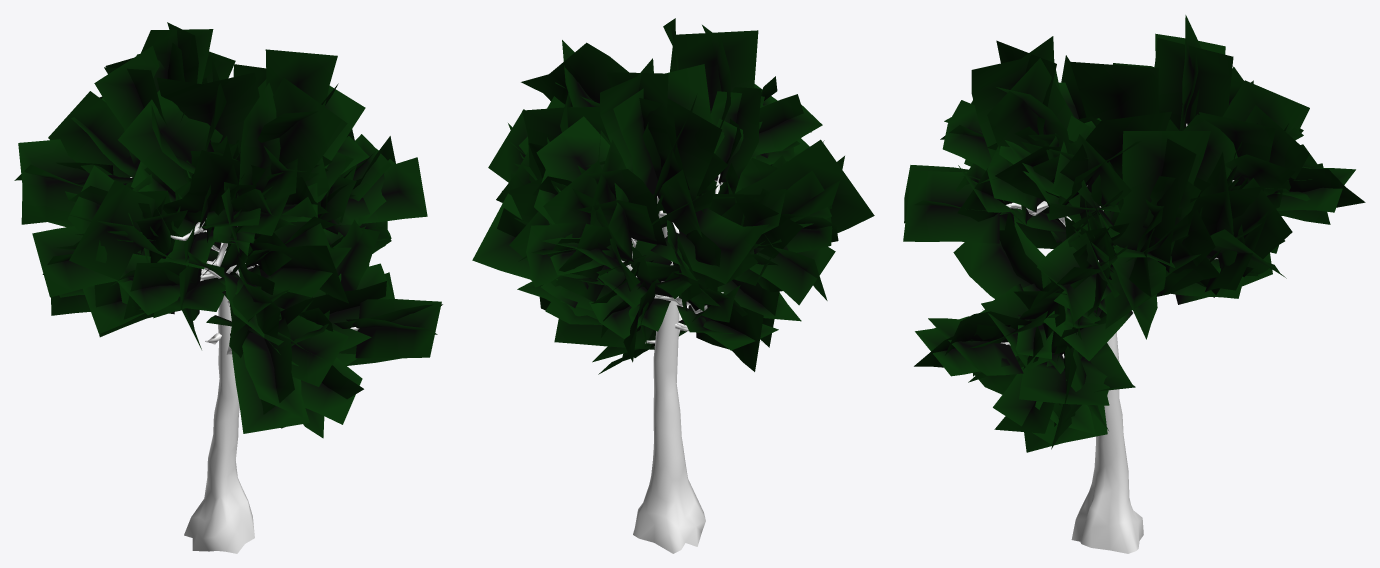
File: BeecthTree01WinterSnow_LOD1.fbx
The picture shows the model from 3 angles, left to right: view 1: azimuth 30°, elevation 25°; view 2: azimuth 150°, elevation 25°; view 3: azimuth 270°, elevation 25°; orthographic projection. The views are drawn at different scales.
Visible parts, largest first — view 1: BeecthTree01WinterSnow_LOD1; view 2: BeecthTree01WinterSnow_LOD1; view 3: BeecthTree01WinterSnow_LOD1.
Boxes of the visible parts, bbox=[...] form: BeecthTree01WinterSnow_LOD1: bbox=[14, 22, 442, 553]; BeecthTree01WinterSnow_LOD1: bbox=[472, 18, 874, 553]; BeecthTree01WinterSnow_LOD1: bbox=[903, 15, 1365, 553].
Bounding box in the file's own units: 16.37 × 21.41 × 17.43.
